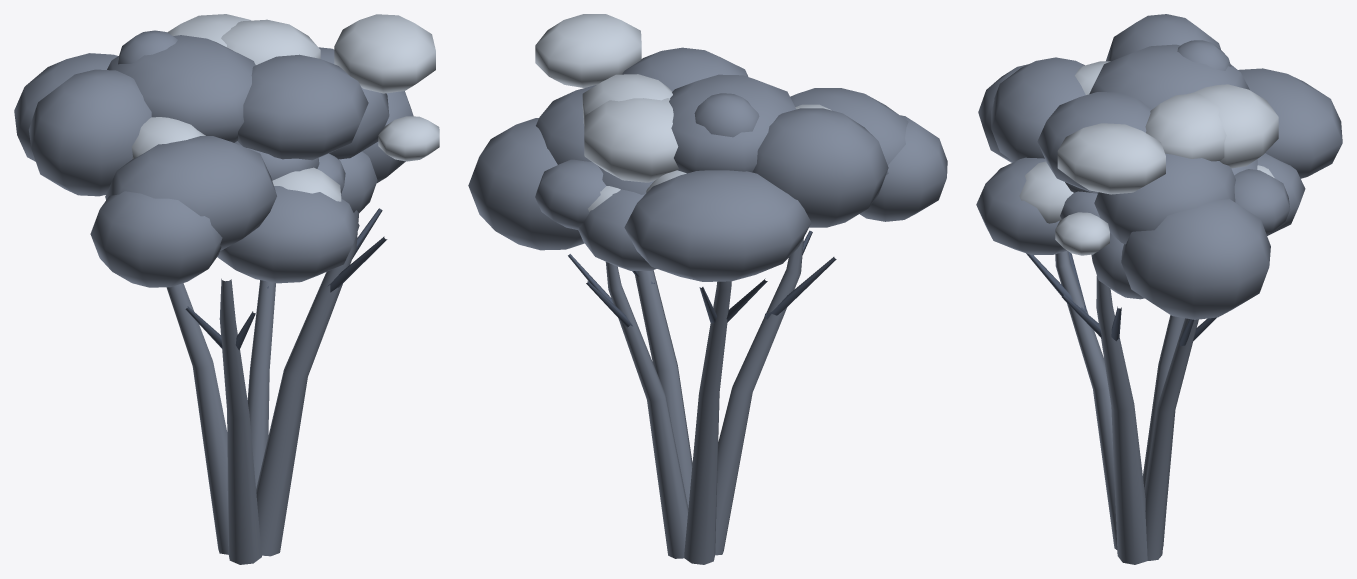
Rendered from 多干小乔木-lite.glb.
3 views of the same model, side by side, from view 1: azimuth 30°, elevation 25°; view 2: azimuth 150°, elevation 25°; view 3: azimuth 270°, elevation 25° (orthographic). The views are drawn at different scales.
Visible parts, largest first — view 1: garden-tree-multistem-leaf, garden-tree-multistem-trunk, garden-tree-multistem-light, garden-tree-multistem-branch; view 2: garden-tree-multistem-leaf, garden-tree-multistem-trunk, garden-tree-multistem-light, garden-tree-multistem-branch; view 3: garden-tree-multistem-leaf, garden-tree-multistem-light, garden-tree-multistem-trunk, garden-tree-multistem-branch.
Part boxes in pixels (x1,y1,x2,y2): garden-tree-multistem-leaf: (14, 30, 413, 287); garden-tree-multistem-trunk: (166, 210, 358, 564); garden-tree-multistem-light: (131, 14, 439, 201); garden-tree-multistem-branch: (185, 208, 387, 350); garden-tree-multistem-leaf: (468, 47, 947, 281); garden-tree-multistem-trunk: (605, 238, 803, 564); garden-tree-multistem-light: (535, 14, 831, 211); garden-tree-multistem-branch: (568, 230, 836, 327); garden-tree-multistem-leaf: (976, 14, 1342, 319); garden-tree-multistem-light: (1019, 61, 1278, 255); garden-tree-multistem-trunk: (1055, 250, 1198, 564); garden-tree-multistem-branch: (1026, 251, 1216, 346).
Size of the model in its own units: 2.1 by 2.6 by 1.8.
